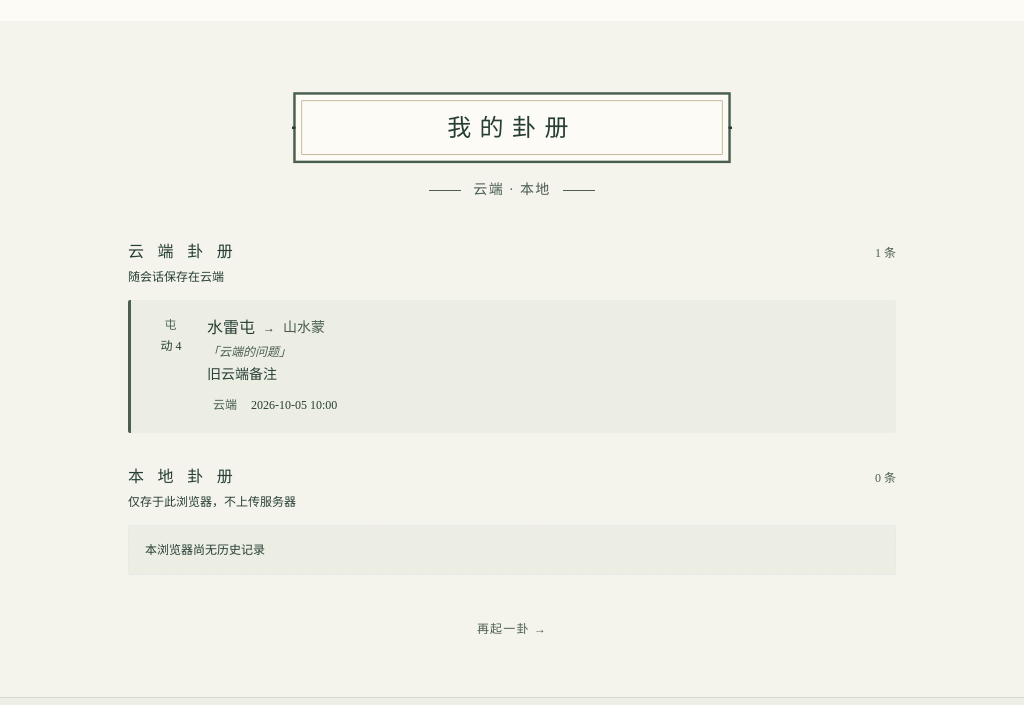
Records page › deletes a cloud record after an inline confirmation
Click the button "水雷屯". click: (231, 327)
box: [128,300,896,433]
(page scrolled)
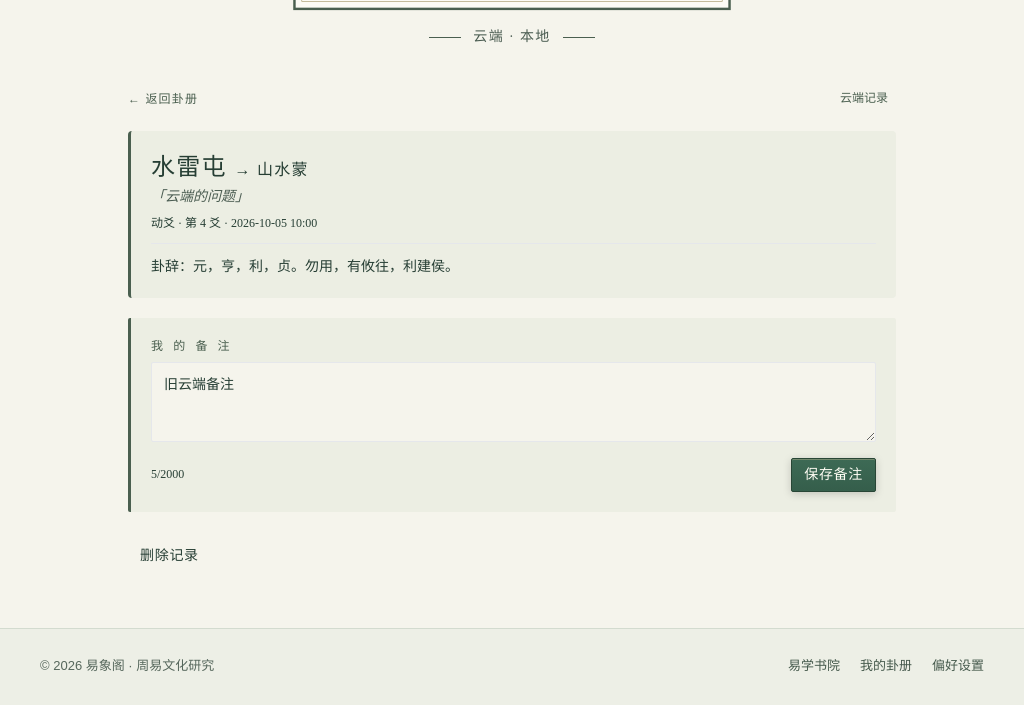
Click the button "删除记录". click: (169, 556)
box: [128,540,211,572]
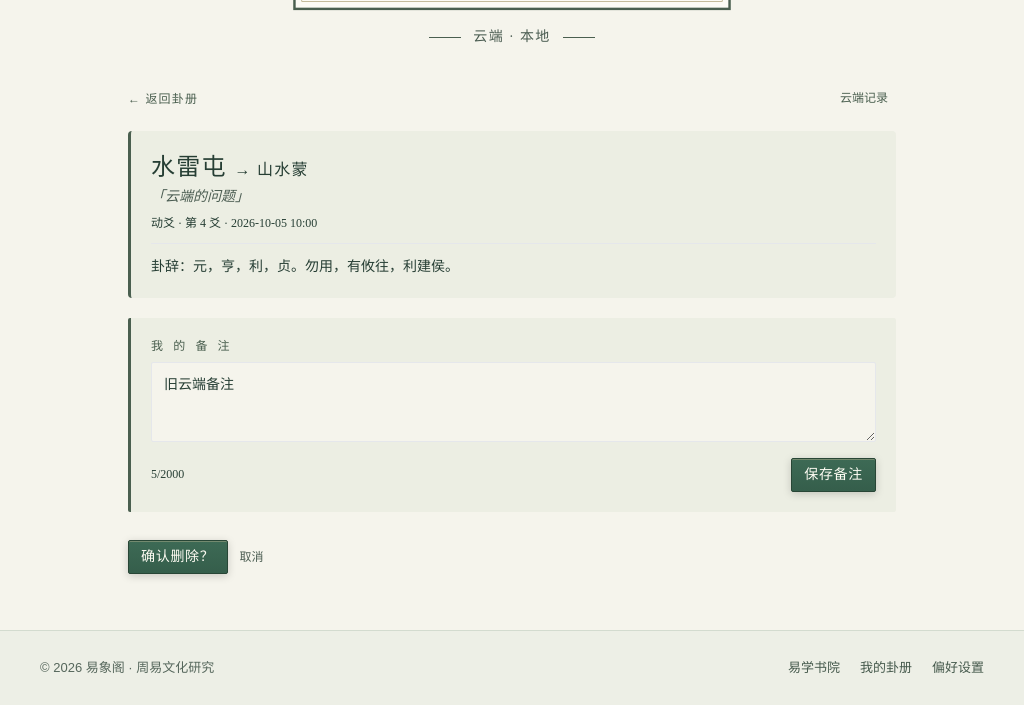
Click the button "确认删除？". click: (178, 557)
box: [128,540,228,574]
(page scrolled)
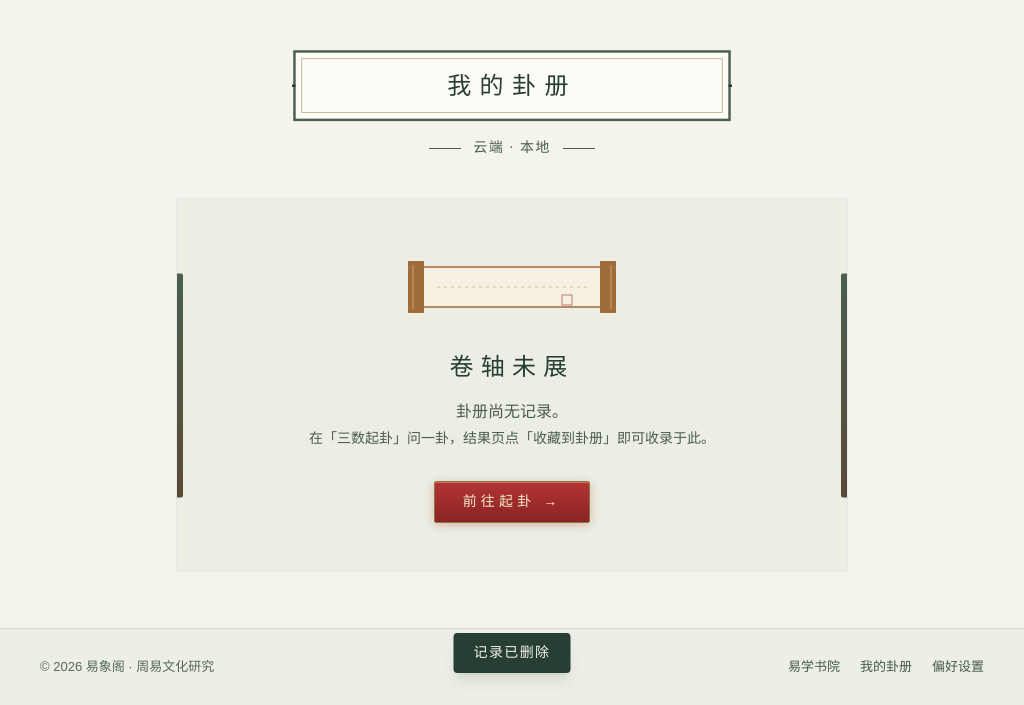
Expected: the button "← 返回卦册" is gone
Expected: the heading "水雷屯" is gone
